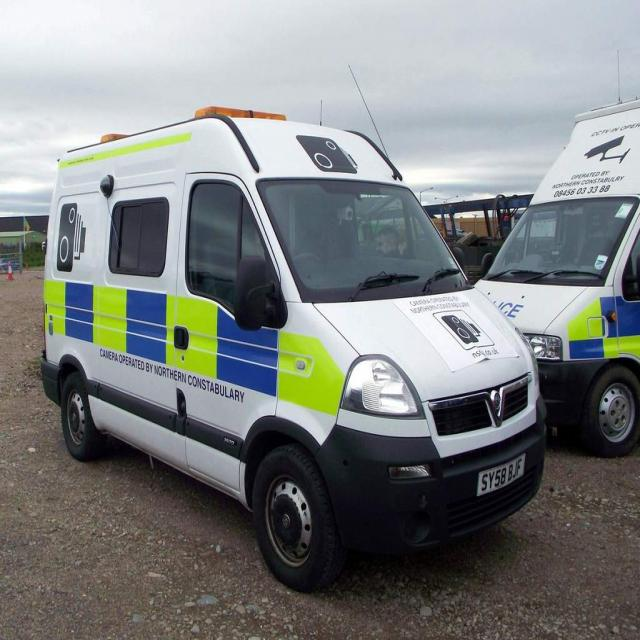Ambulance: (38, 62, 549, 601), (472, 48, 640, 459)
